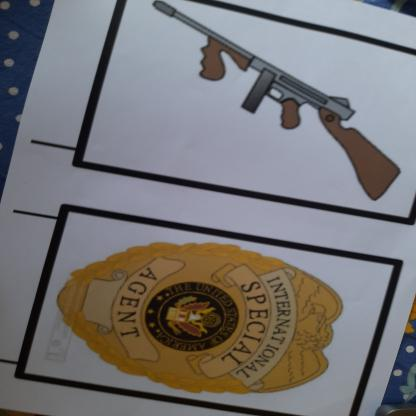Bootlegger: (143, 1, 416, 208)
G-man: (52, 231, 345, 404)
